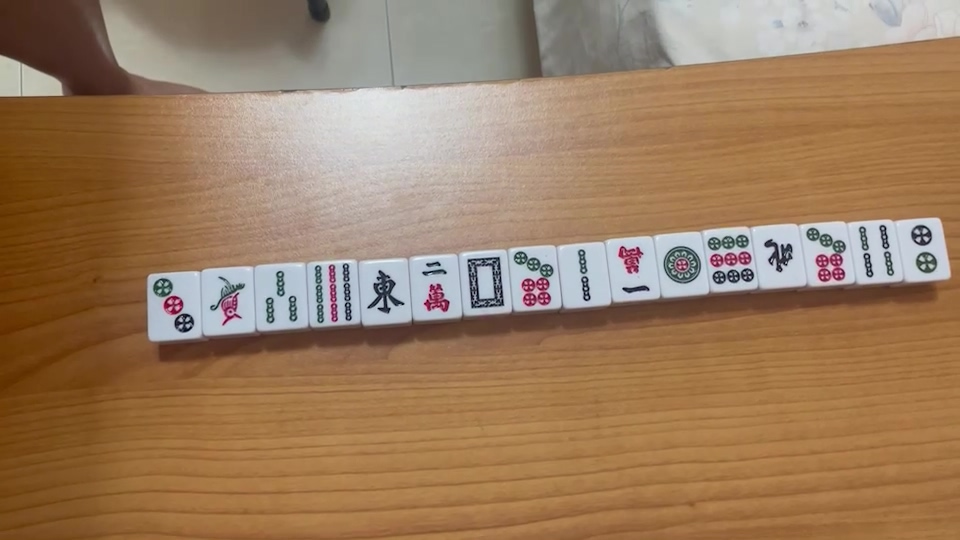b-1: (209, 273, 249, 326)
b-2: (569, 247, 597, 302)
b-3: (262, 269, 298, 325)
b-4: (856, 223, 896, 280)
b-9: (311, 263, 354, 323)
c-1: (611, 241, 652, 299)
c-2: (417, 257, 456, 315)
d-1: (661, 241, 702, 292)
d-2: (907, 220, 942, 275)
d-3: (149, 275, 196, 335)
d-7: (513, 246, 556, 310), (807, 225, 847, 283)
d-9: (707, 232, 753, 286)
honors-east: (364, 266, 404, 314)
honors-north: (758, 237, 797, 274)
honors-white: (464, 250, 503, 310)
